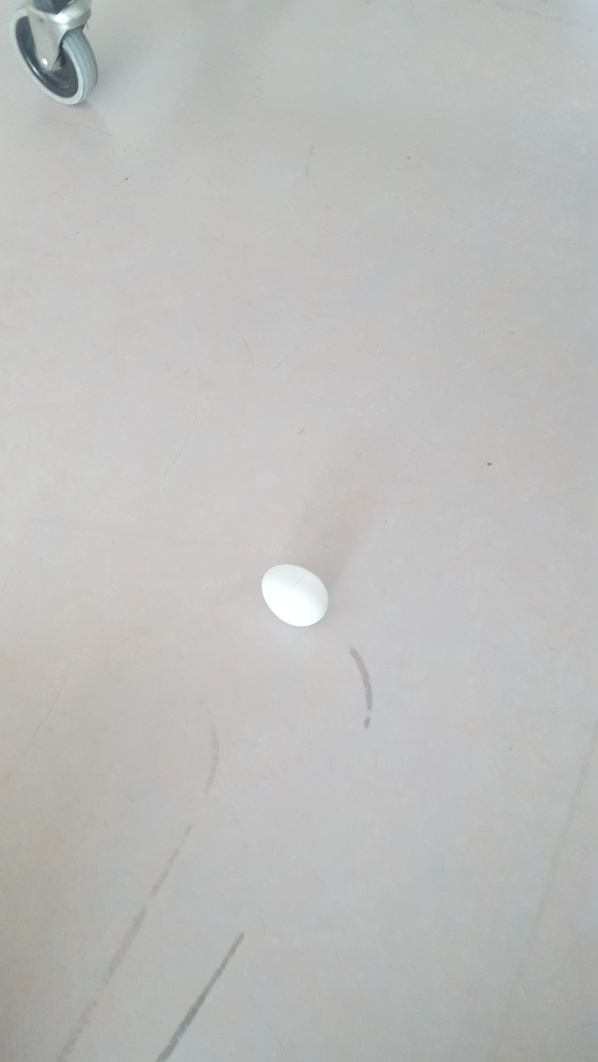egg: (256, 565, 331, 632)
